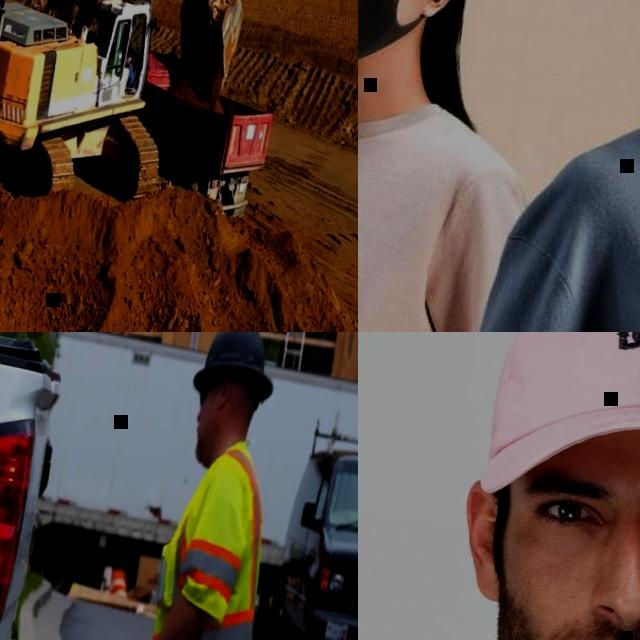Hardhat: (191, 332, 283, 404)
Mask: (358, 0, 457, 81)
NO-Hardhat: (475, 332, 640, 531)
NO-Mask: (191, 397, 227, 468)
NO-Safety Vest: (358, 93, 490, 332)
Person: (358, 332, 640, 640), (358, 0, 583, 332), (98, 332, 299, 640), (457, 0, 640, 332), (113, 46, 140, 90)
Safety Cone: (110, 568, 131, 597)
Safety Vest: (122, 432, 283, 640)
machinery: (0, 0, 271, 220), (123, 50, 281, 218)
vehicle: (0, 332, 150, 640), (265, 429, 358, 640)
